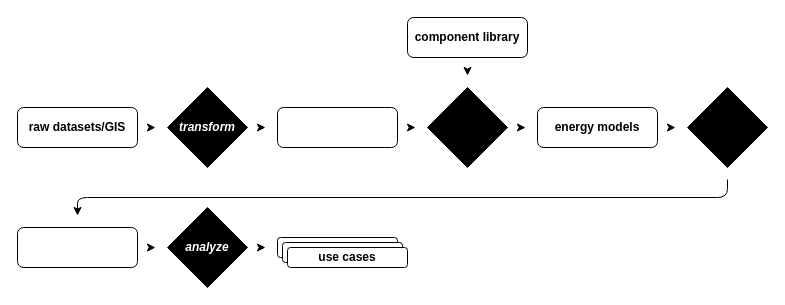
Some shapes in this 785 by 305 pixel diagram are drawn without their labels. Here are the shapes that lost their labels. From the top down, the centre of each, then its label:
the point at 337,127: semantic description layer
the point at 467,127: compile
the point at 727,127: execute
the point at 77,247: results
